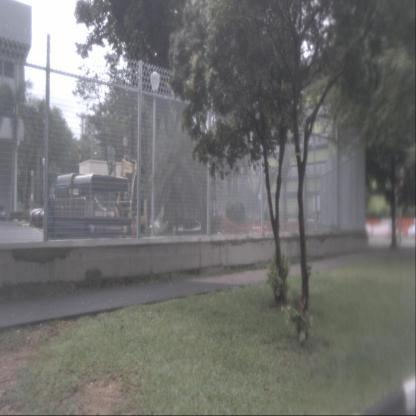barrier: (398, 217, 414, 237)
